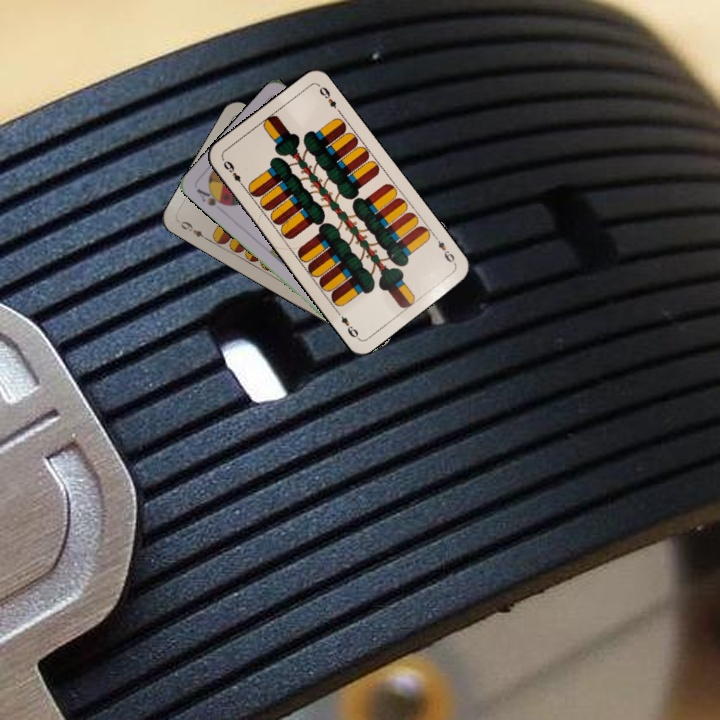E9: (430, 231, 458, 267), (219, 155, 247, 190), (174, 217, 211, 243)
SA: (192, 184, 230, 209)
